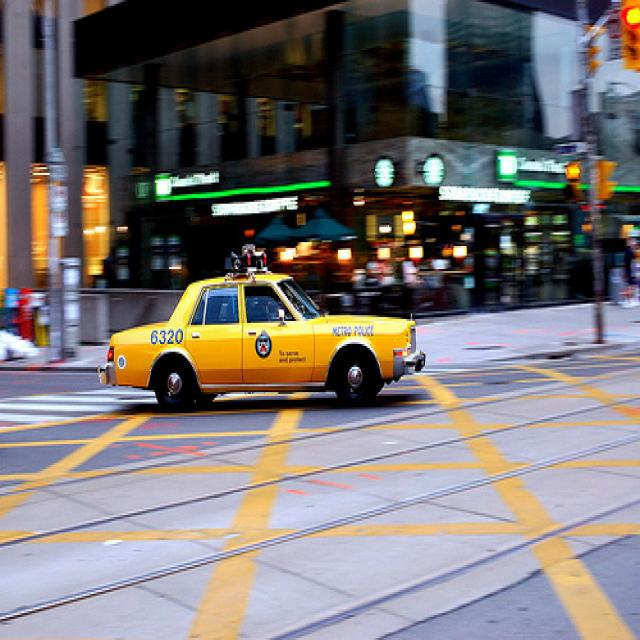Car: (98, 256, 426, 422)
